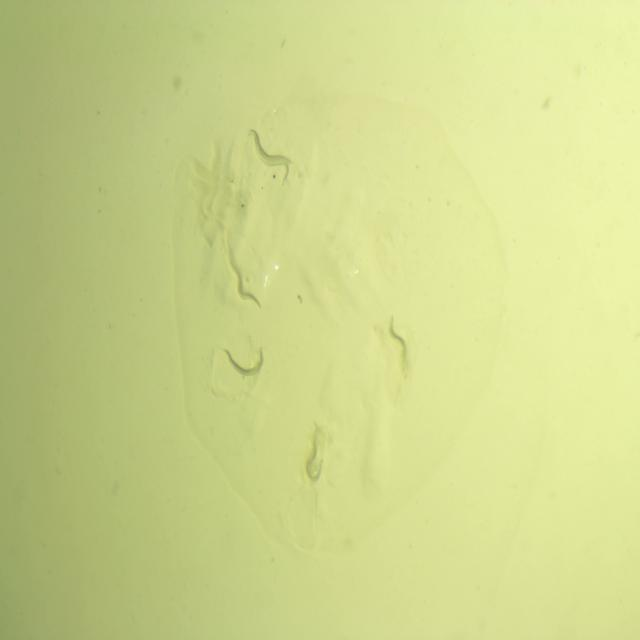worm: (243, 123, 296, 168), (252, 135, 293, 193), (226, 257, 264, 313), (220, 342, 267, 382), (304, 428, 326, 487), (386, 312, 413, 359)
